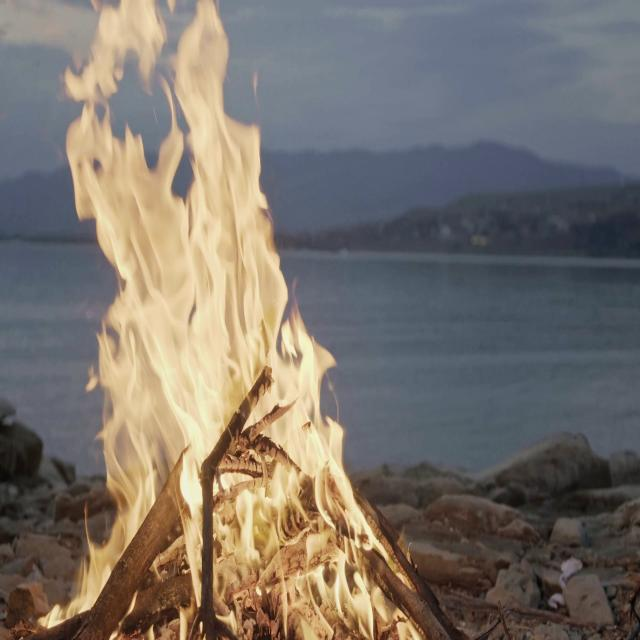Fire: (62, 0, 334, 588), (315, 419, 444, 640), (228, 499, 336, 640), (215, 468, 302, 576), (38, 538, 123, 629)
